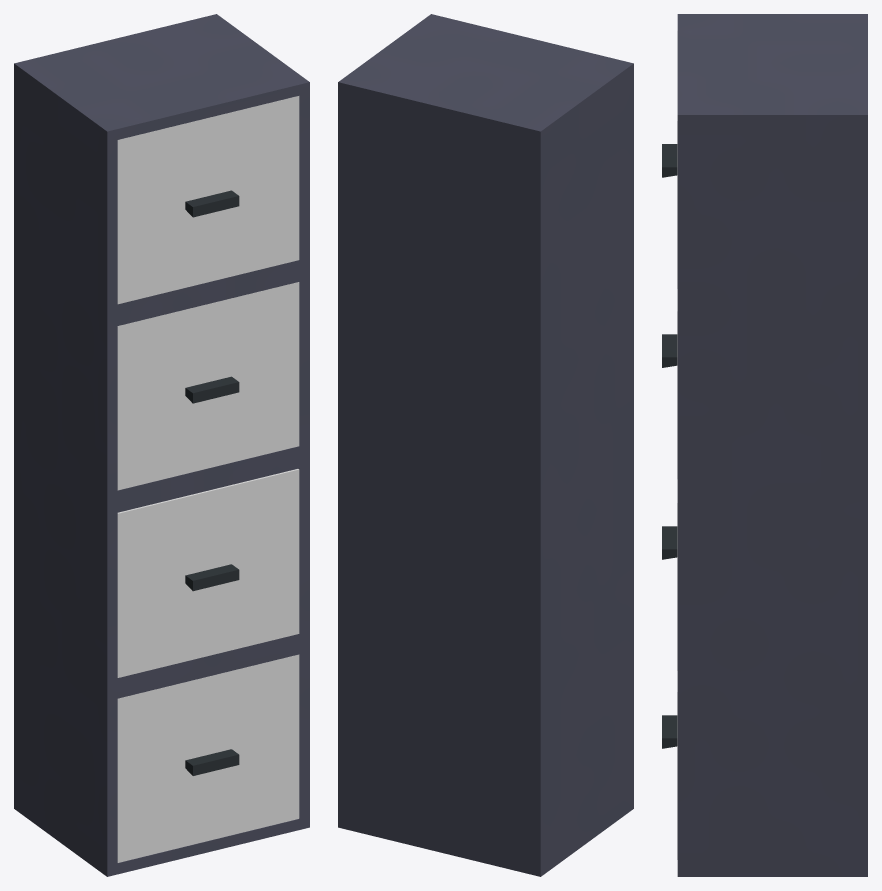
The model's file is Closet_03_01.fbx.
The picture shows the model from 3 angles, left to right: view 1: azimuth 30°, elevation 25°; view 2: azimuth 150°, elevation 25°; view 3: azimuth 270°, elevation 25°; orthographic projection. The views are drawn at different scales.
Visible parts, largest first — view 1: Closet_03_01, Closet_03_Container.009, Closet_03_Container.010, Closet_03_Container.011, Closet_03_Container; view 2: Closet_03_01; view 3: Closet_03_01, Closet_03_Container, Closet_03_Container.011, Closet_03_Container.009, Closet_03_Container.010.
Boxes of the visible parts, left/top/right/bottom form: Closet_03_01: left=14, top=14, right=309, bottom=876; Closet_03_Container.009: left=117, top=469, right=299, bottom=677; Closet_03_Container.010: left=117, top=654, right=299, bottom=862; Closet_03_Container.011: left=117, top=282, right=299, bottom=490; Closet_03_Container: left=117, top=96, right=299, bottom=304; Closet_03_01: left=338, top=14, right=633, bottom=876; Closet_03_01: left=677, top=14, right=867, bottom=876; Closet_03_Container: left=662, top=31, right=677, bottom=288; Closet_03_Container.011: left=662, top=289, right=677, bottom=478; Closet_03_Container.009: left=662, top=479, right=677, bottom=670; Closet_03_Container.010: left=662, top=671, right=677, bottom=859.
Size of the model in its own units: 0.4966 by 1.75 by 0.4271.
